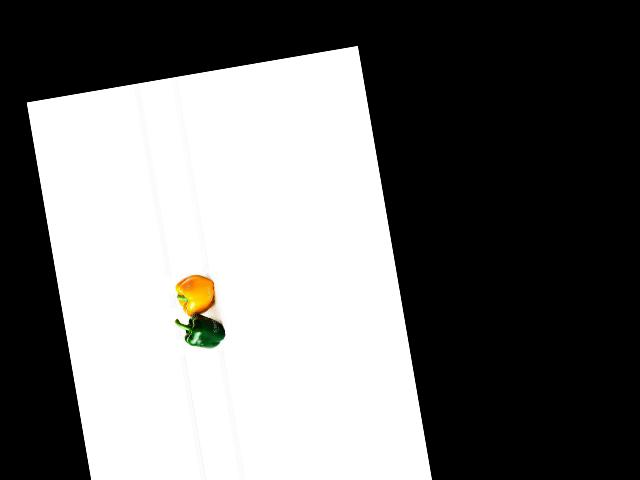bell_pepper: (178, 309, 233, 355)
